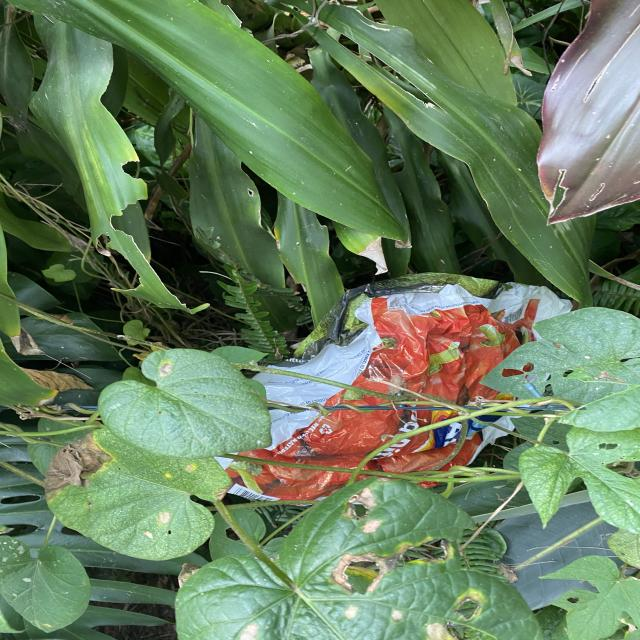bag: (211, 274, 576, 502)
